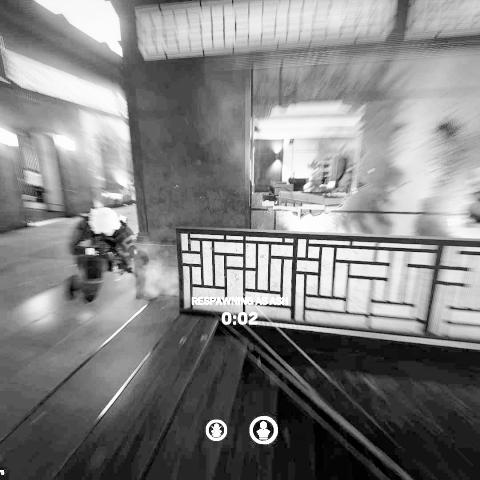Character: (62, 203, 160, 306)
Head: (90, 208, 120, 235)
